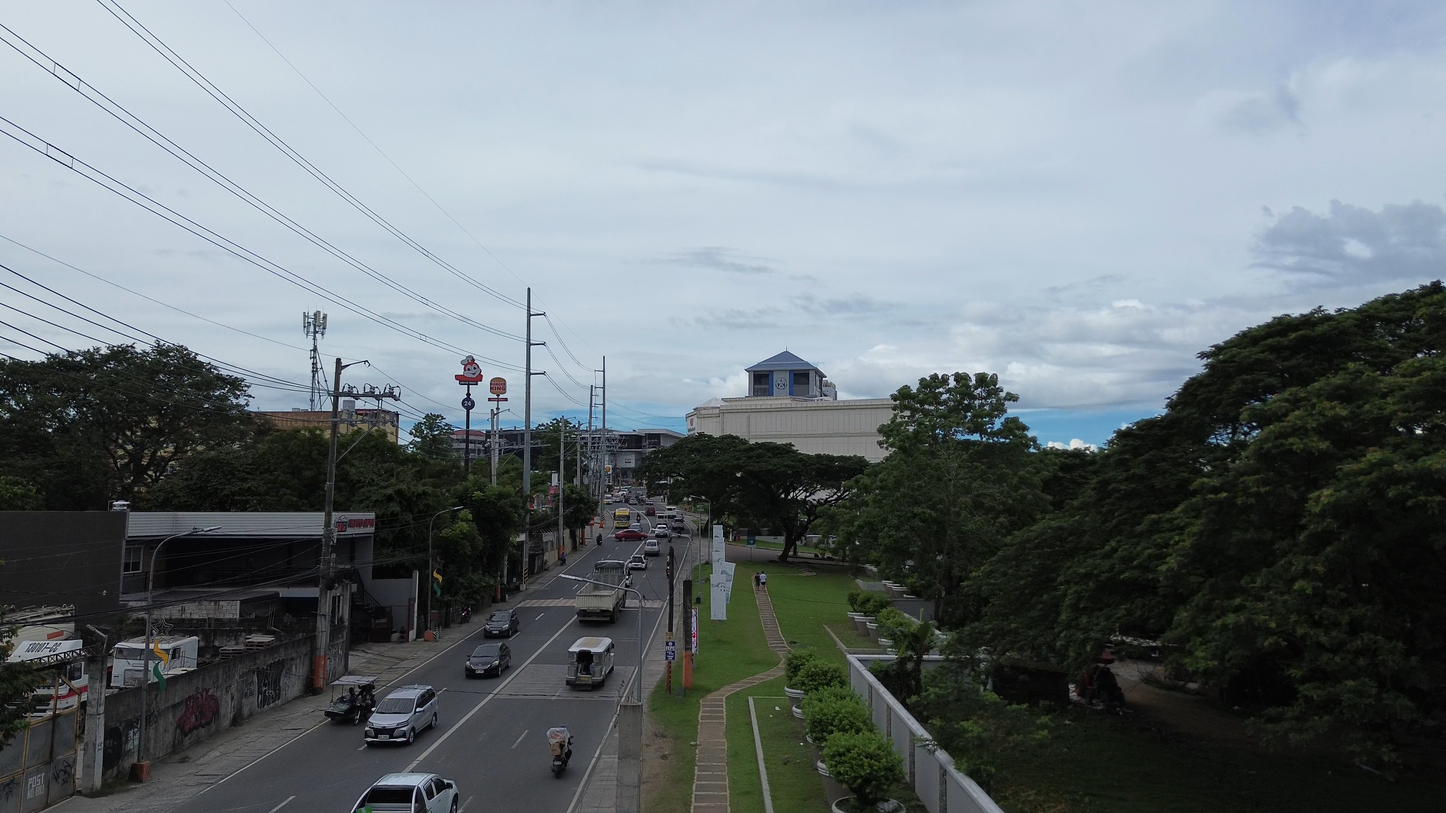bus: (613, 508, 630, 529)
car: (364, 685, 437, 744), (483, 609, 519, 638), (613, 529, 648, 541), (628, 554, 647, 570), (654, 523, 671, 539), (629, 522, 642, 530)
truck: (146, 636, 198, 681)
vehicle: (8, 638, 88, 717), (109, 635, 198, 688), (354, 773, 459, 813), (574, 560, 628, 622), (323, 675, 377, 725), (565, 636, 615, 687), (464, 643, 510, 678), (547, 728, 573, 777), (613, 509, 630, 528), (643, 539, 660, 556), (653, 523, 671, 539), (644, 502, 656, 516), (629, 522, 642, 530), (625, 497, 636, 505)
